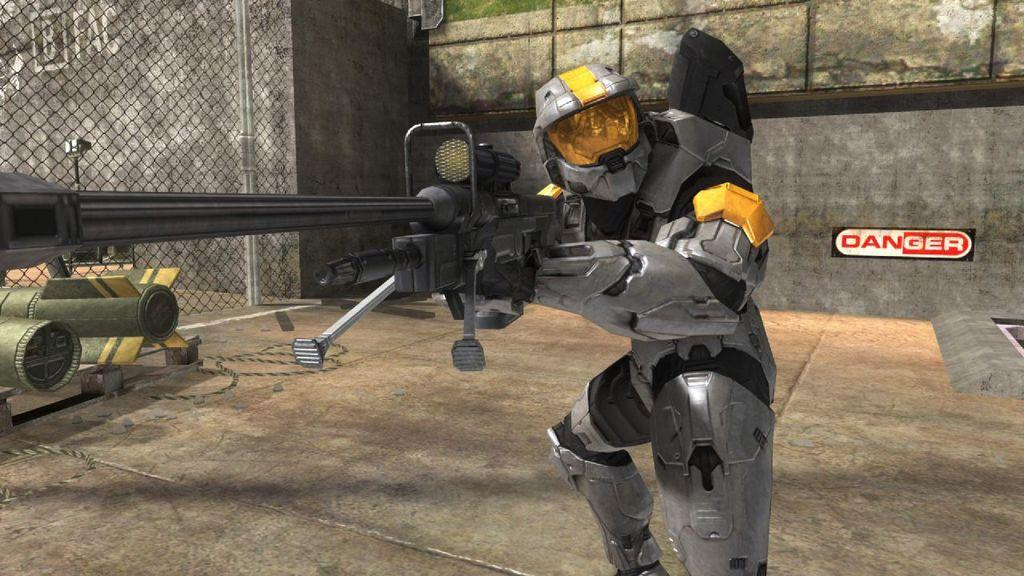Rifle: (0, 118, 560, 373)
